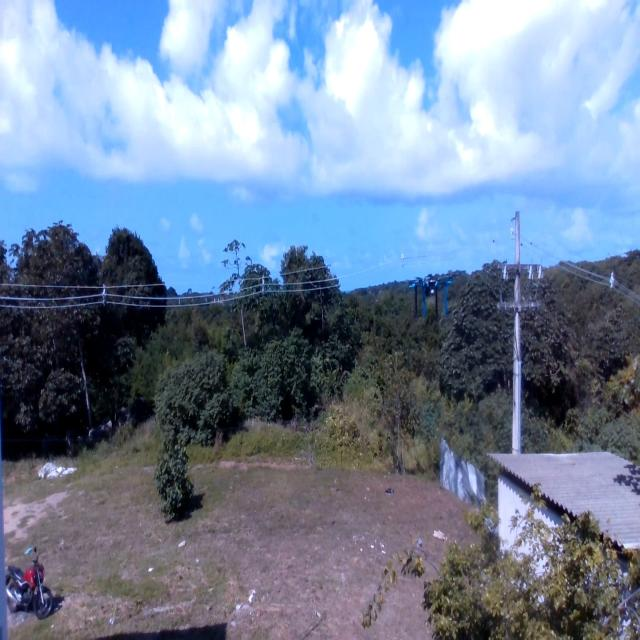-uav-: (405, 260, 458, 334)
